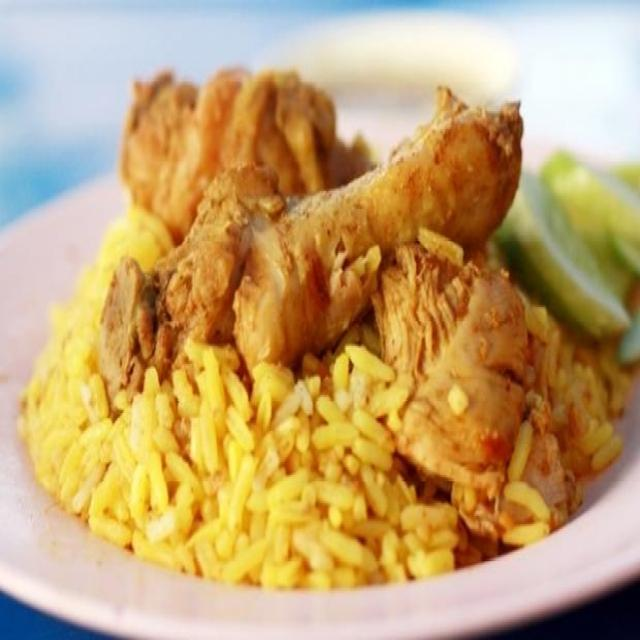米饭主食: (7, 26, 626, 632)
